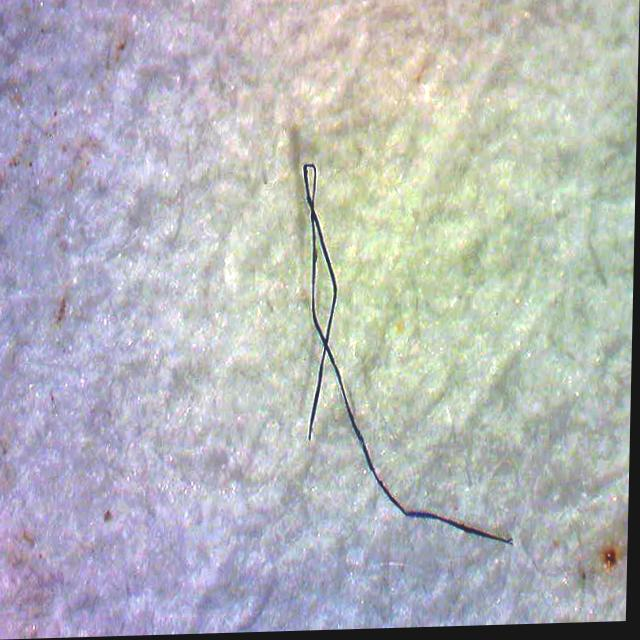microplastic: (285, 348, 518, 588), (306, 212, 342, 443), (304, 166, 327, 347)
